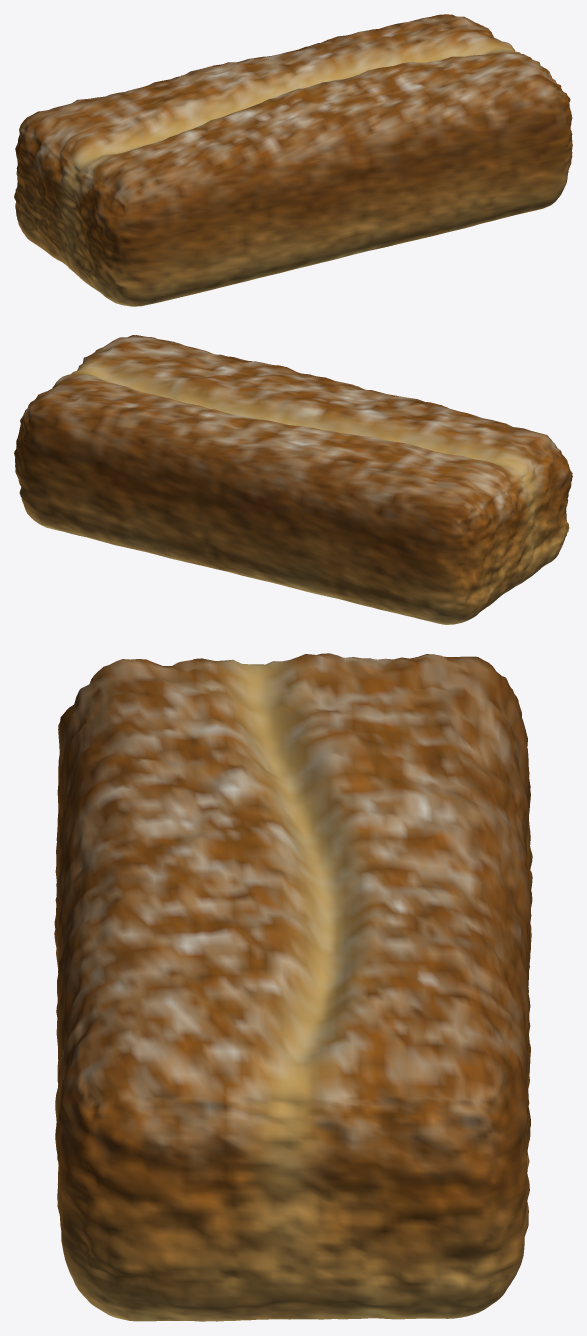
The model's file is biscuit.glb.
3 views of the same model, one above another, from view 1: azimuth 30°, elevation 25°; view 2: azimuth 150°, elevation 25°; view 3: azimuth 270°, elevation 25° (orthographic). The views are drawn at different scales.
Parts seen in each view (by area): view 1: biscuit; view 2: biscuit; view 3: biscuit.
Part boxes in pixels (left/top/right/bottom): biscuit: left=14, top=14, right=572, bottom=306; biscuit: left=14, top=335, right=572, bottom=624; biscuit: left=54, top=653, right=532, bottom=1321.
Size of the model in its own units: 1.02 by 0.2914 by 0.4497.
